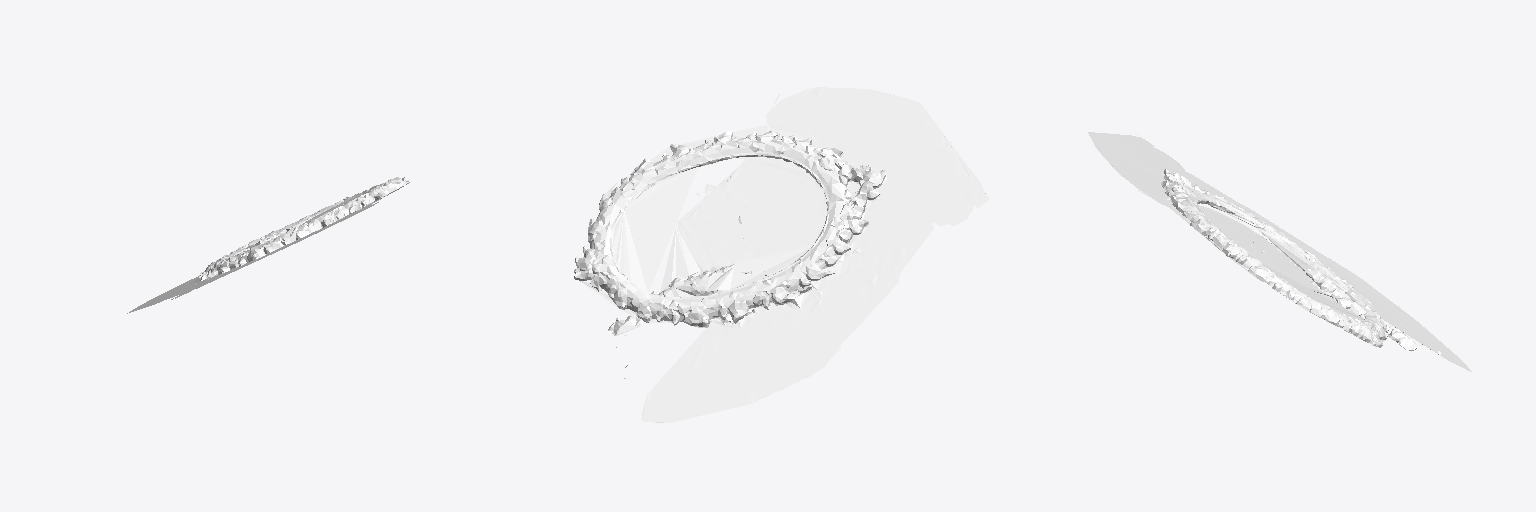
File: mirror_surface.obj
3 views of the same model, side by side, from view 1: azimuth 30°, elevation 25°; view 2: azimuth 150°, elevation 25°; view 3: azimuth 270°, elevation 25° (orthographic).
Bounding box in the file's own units: 553 × 344 × 587.